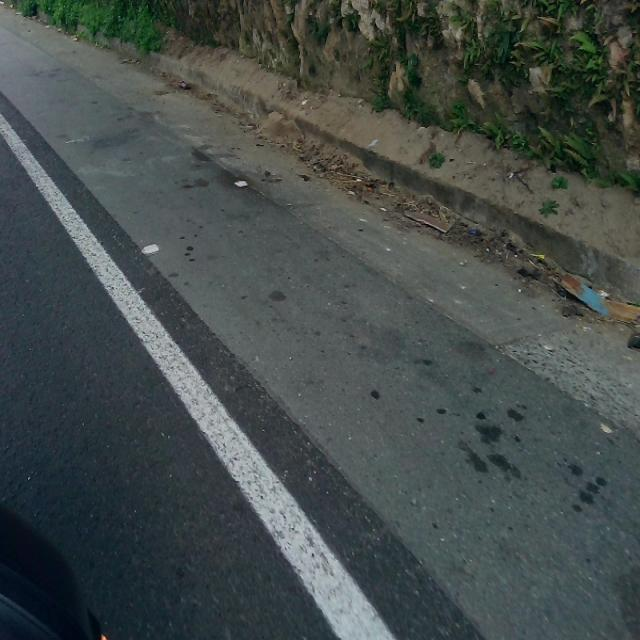DITCH: (1, 6, 638, 638), (1, 73, 638, 638)
